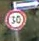limite 30: (4, 8, 27, 30)
